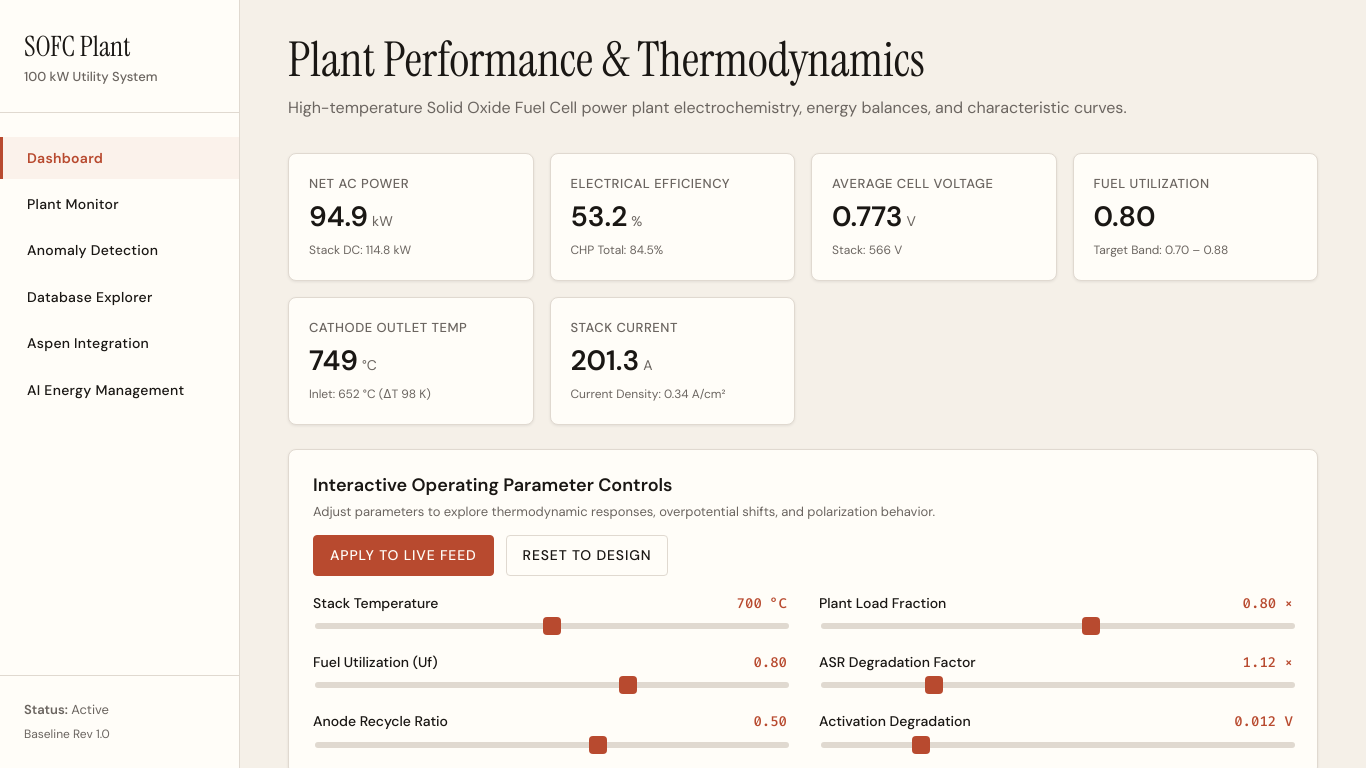
Test case: SOFC Monitor Routed App › navigates to Anomaly Detection and renders the residual matrix and normality chart
Click the link "Anomaly Detection". click: click(93, 250)
box: x1=27 y1=241 x2=158 y2=259
(page scrolled)
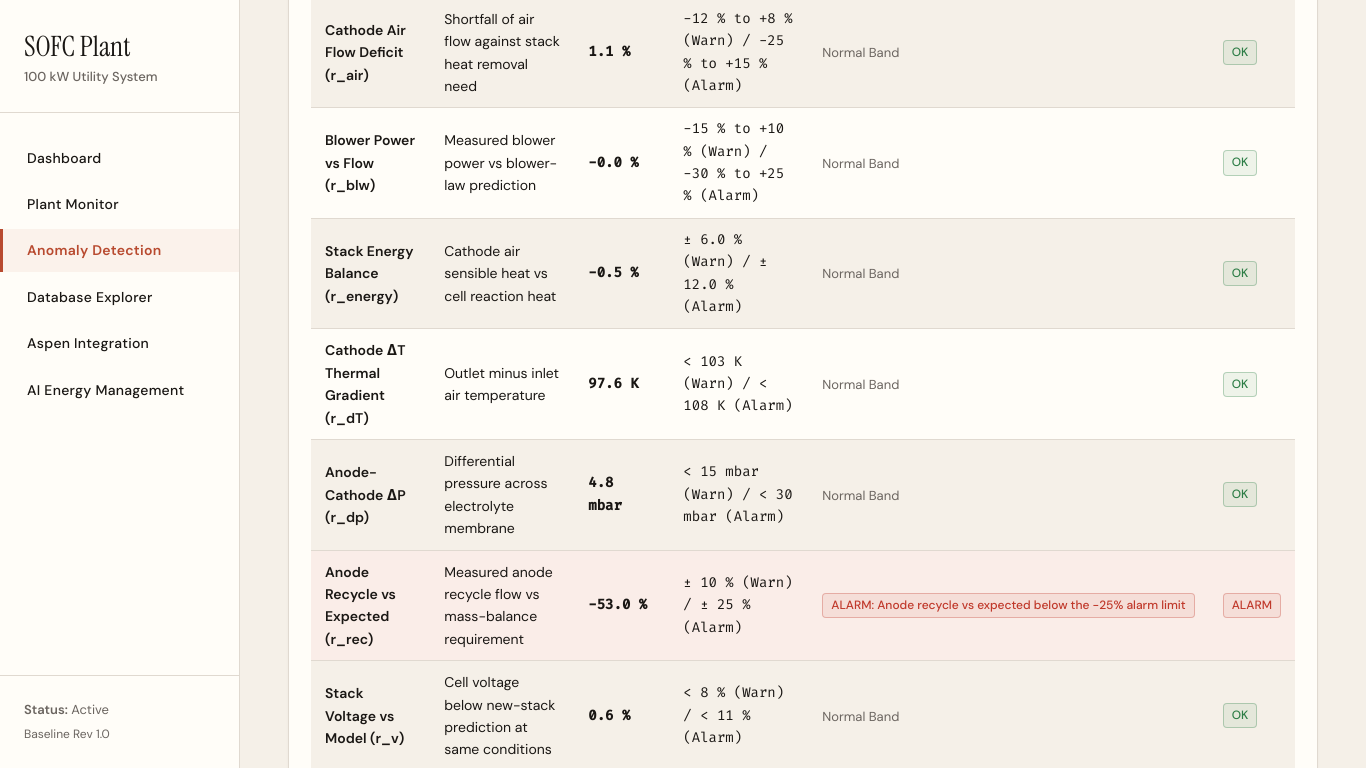
Now the text "Cathode ΔT Thermal Gradient (r_dT)" is shown, box x1=325 y1=341 x2=405 y2=427
